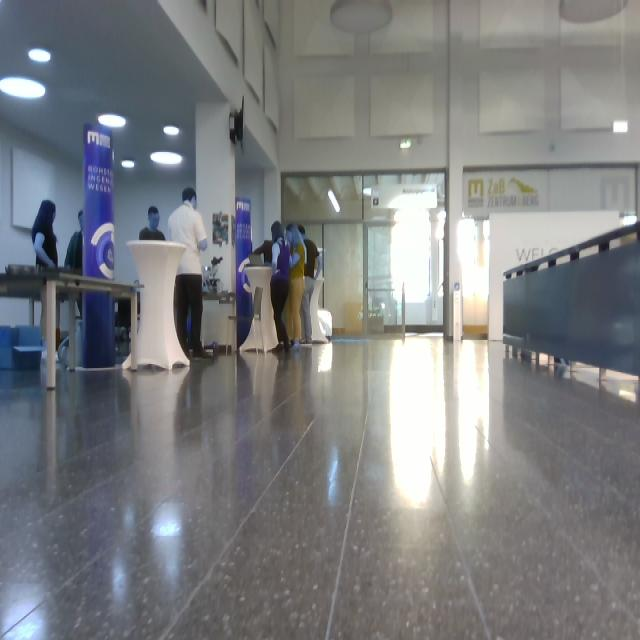door: (323, 221, 365, 336)
light bulb: (330, 1, 393, 36), (559, 1, 628, 24), (1, 76, 46, 100), (150, 150, 183, 165), (98, 113, 126, 129), (28, 48, 51, 64), (328, 189, 341, 213), (613, 120, 628, 134), (163, 125, 180, 136), (435, 222, 445, 240), (400, 138, 412, 149), (121, 160, 135, 169)
person: (168, 188, 214, 360), (32, 200, 61, 361)
pillar: (81, 122, 116, 369)
staircase: (502, 221, 640, 386)
tiled floor: (1, 332, 639, 638)
